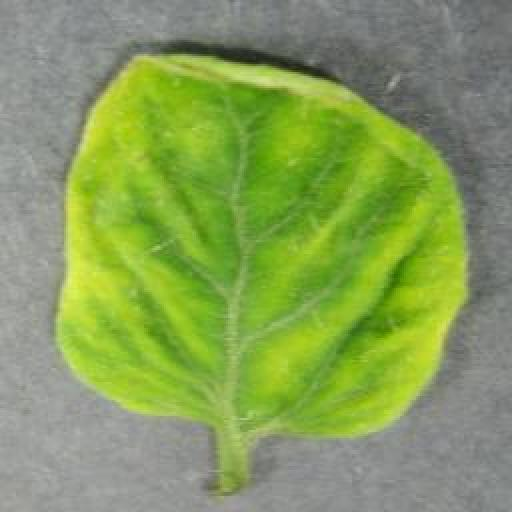disease_tomato: (54, 48, 477, 441)
